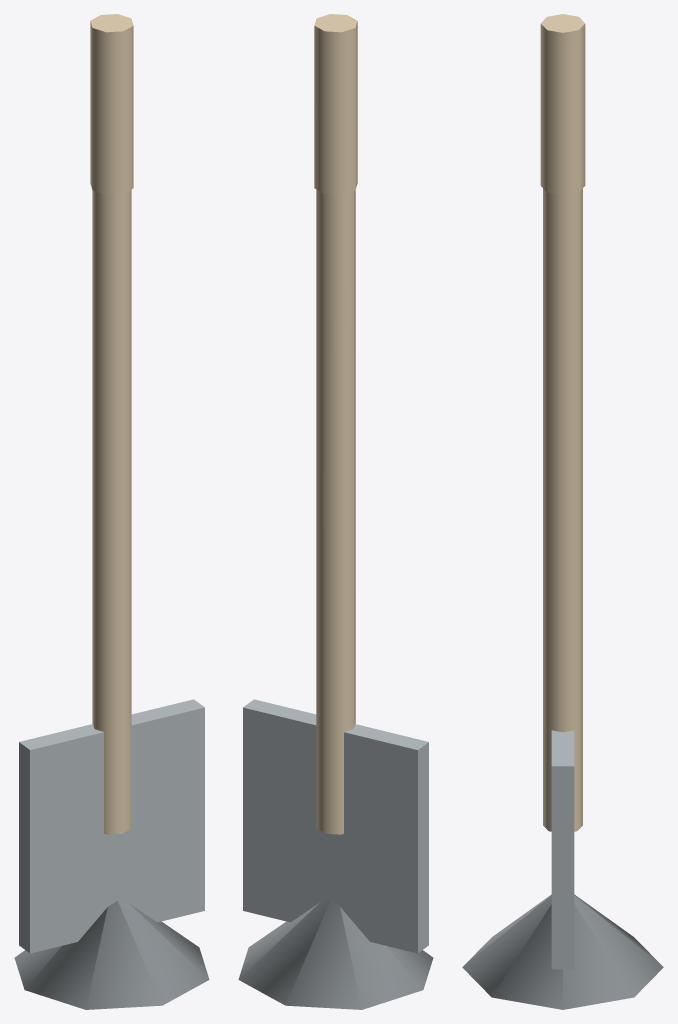
Rendered from tool_shovel.glb.
The picture shows the model from 3 angles, left to right: view 1: azimuth 30°, elevation 25°; view 2: azimuth 150°, elevation 25°; view 3: azimuth 270°, elevation 25°; orthographic projection.
Parts seen in each view (by area): view 1: ToolShovel; view 2: ToolShovel; view 3: ToolShovel.
Boxes of the visible parts, x1,y1,x2,y2 form: ToolShovel: (14,14,209,1009); ToolShovel: (238,14,433,1009); ToolShovel: (462,14,663,1009).
Size of the model in its own units: 0.18 by 0.93 by 0.18.
